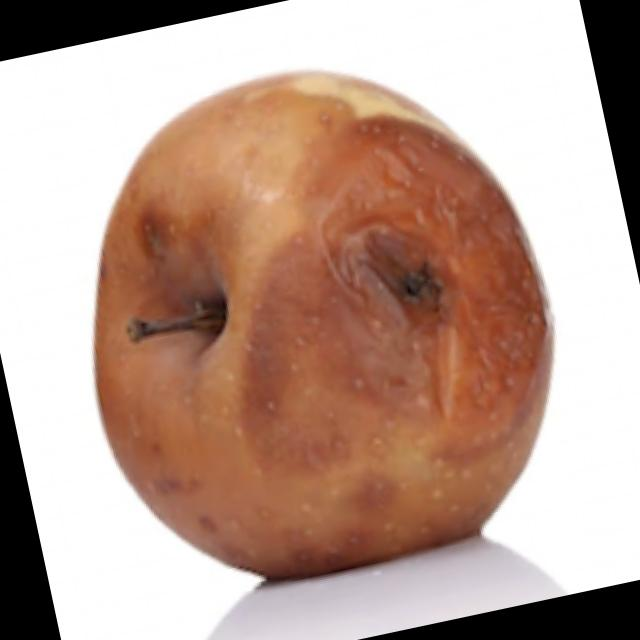rotten_apple: (37, 28, 595, 613)
